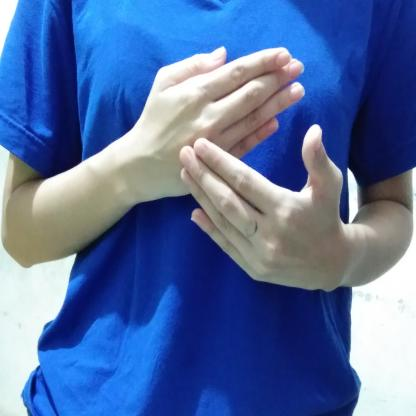thank you: (126, 40, 347, 304)
